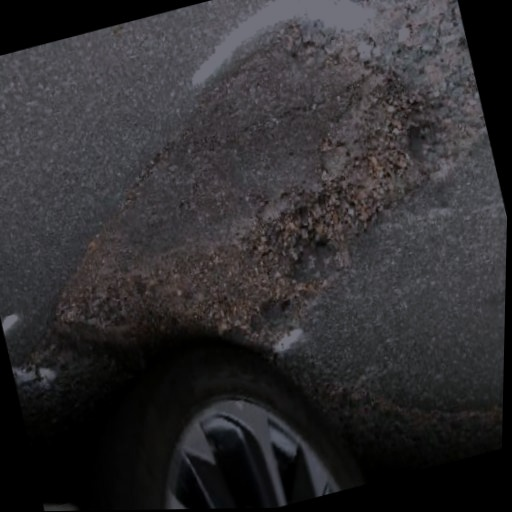pothole: (5, 47, 466, 403)
